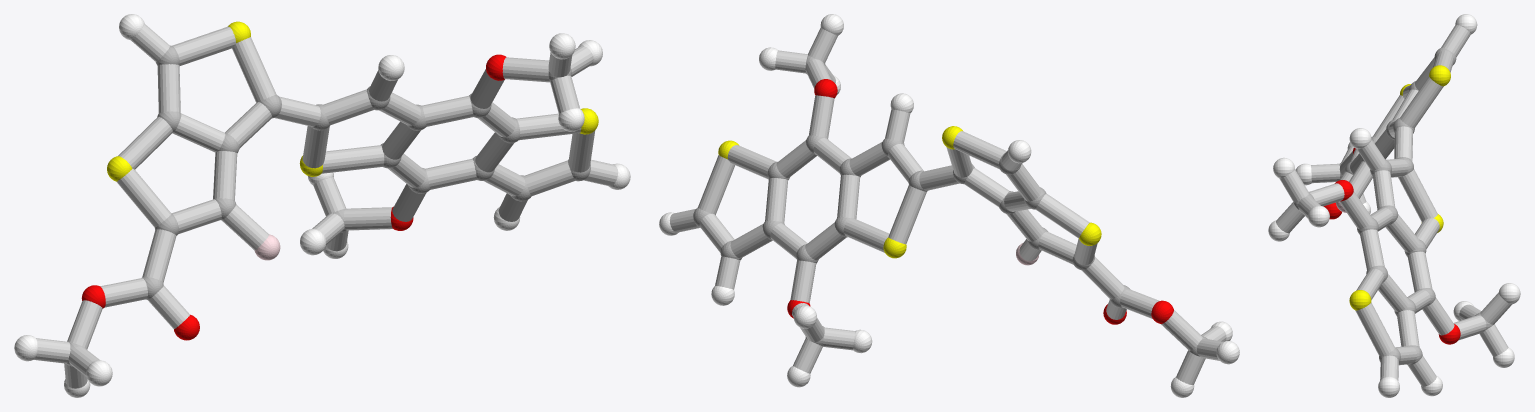
The model's file is color.glb.
The picture shows the model from 3 angles, left to right: view 1: azimuth 30°, elevation 25°; view 2: azimuth 150°, elevation 25°; view 3: azimuth 270°, elevation 25°; orthographic projection. The views are drawn at different scales.
Parts seen in each view (by area): view 1: grp15205, grp8689, grp1, grp13395, grp7241; view 2: grp15205, grp8689, grp1, grp7241, grp13395; view 3: grp15205, grp8689, grp1, grp7241, grp13395.
Part boxes in pixels (box(x1,y1,x2,y2)): grp15205: box(34, 24, 618, 388); grp8689: box(14, 14, 630, 397); grp1: box(66, 45, 590, 366); grp13395: box(81, 54, 506, 340); grp7241: box(107, 21, 598, 181); grp15205: box(669, 27, 1226, 384); grp8689: box(659, 14, 1239, 397); grp1: box(693, 55, 1207, 356); grp7241: box(718, 126, 1101, 258); grp13395: box(787, 79, 1173, 324); grp15205: box(1276, 24, 1511, 386); grp8689: box(1268, 14, 1520, 397); grp1: box(1294, 47, 1492, 365); grp7241: box(1349, 65, 1450, 310); grp13395: box(1323, 148, 1460, 344).
Bounding box in the file's own units: 16.53 × 7.86 × 6.89.
